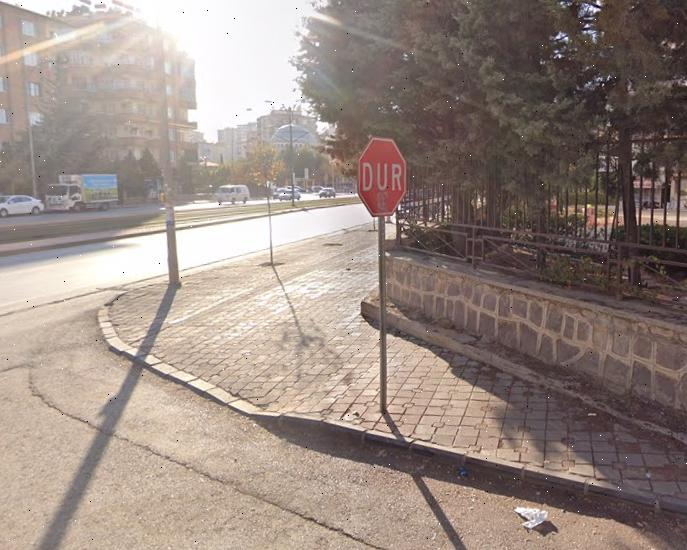stop: (357, 137, 404, 217)
